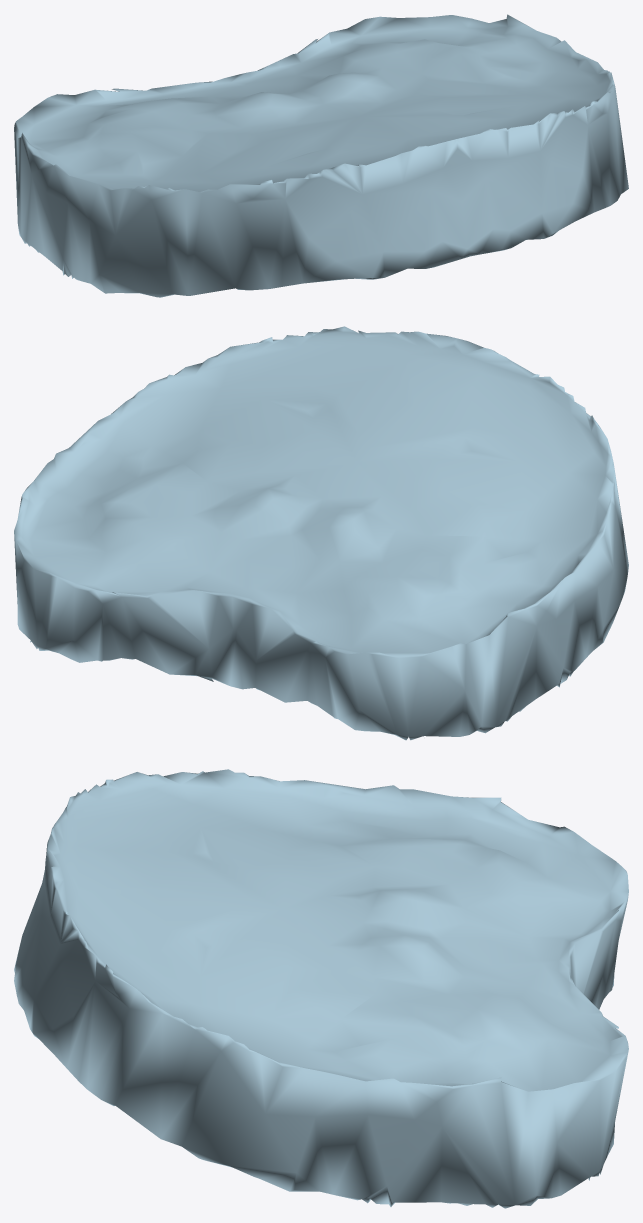
File: articulacoes-intervertebral-disc-l1-l2.glb
3 renders of one model, top to bottom at view 1: azimuth 30°, elevation 25°; view 2: azimuth 150°, elevation 25°; view 3: azimuth 270°, elevation 25°, orthographic. The views are drawn at different scales.
Parts seen in each view (by area): view 1: Intervertebral disc L1-L2; view 2: Intervertebral disc L1-L2; view 3: Intervertebral disc L1-L2.
Part boxes in pixels (<box>): Intervertebral disc L1-L2: <box>14,14,628,297</box>; Intervertebral disc L1-L2: <box>14,326,628,740</box>; Intervertebral disc L1-L2: <box>14,769,628,1208</box>.
Size of the model in its own units: 0.0432 by 0.0153 by 0.0382.
